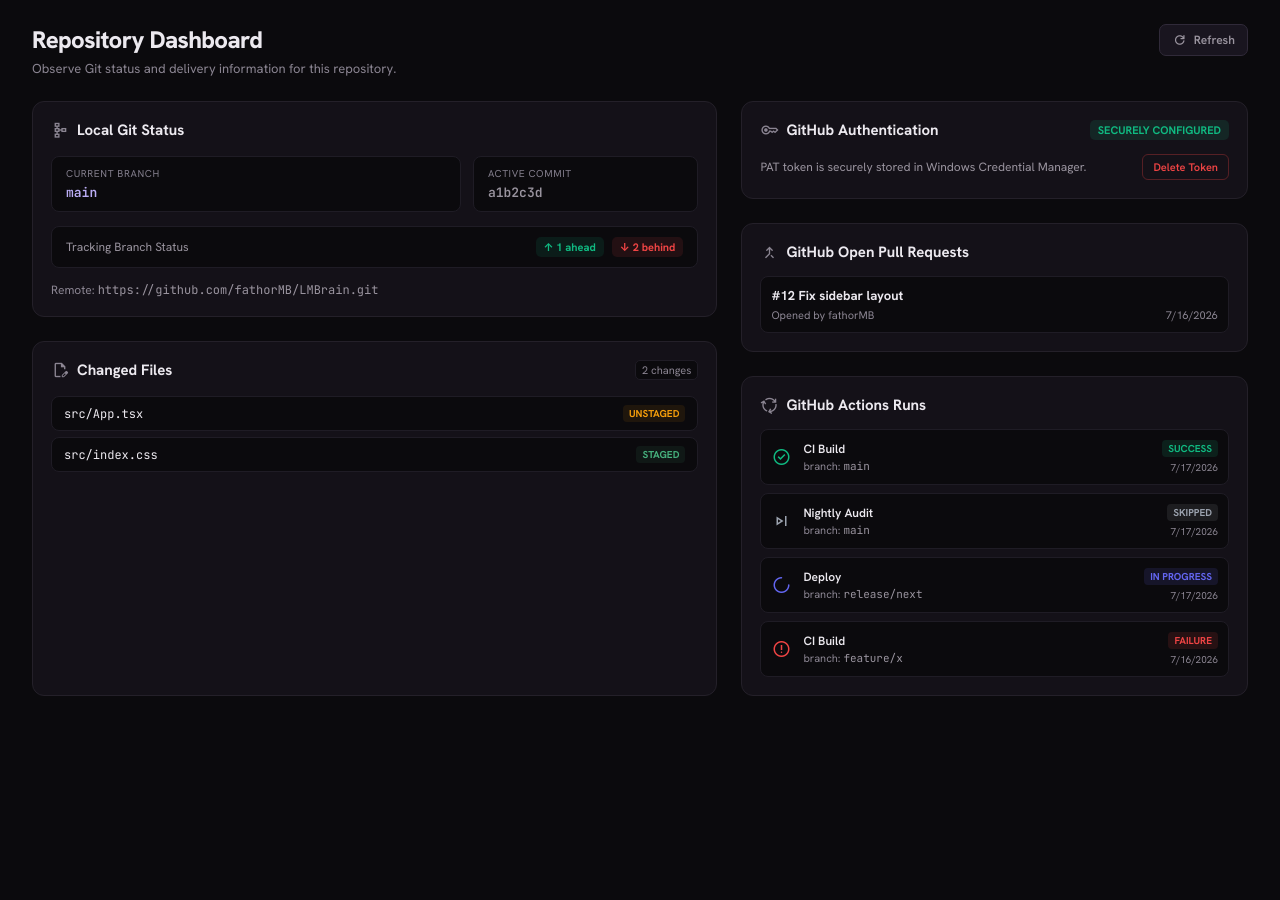
Test: RepositoryView › opens the selected file in the diff viewer
The width and height of the screenshot is (1280, 900).
Step 1. Click the button with aria-label "View diff for src/App.tsx, status unstaged, unstaged" → (104, 414), box top-left (51, 396), bottom-right (698, 431)
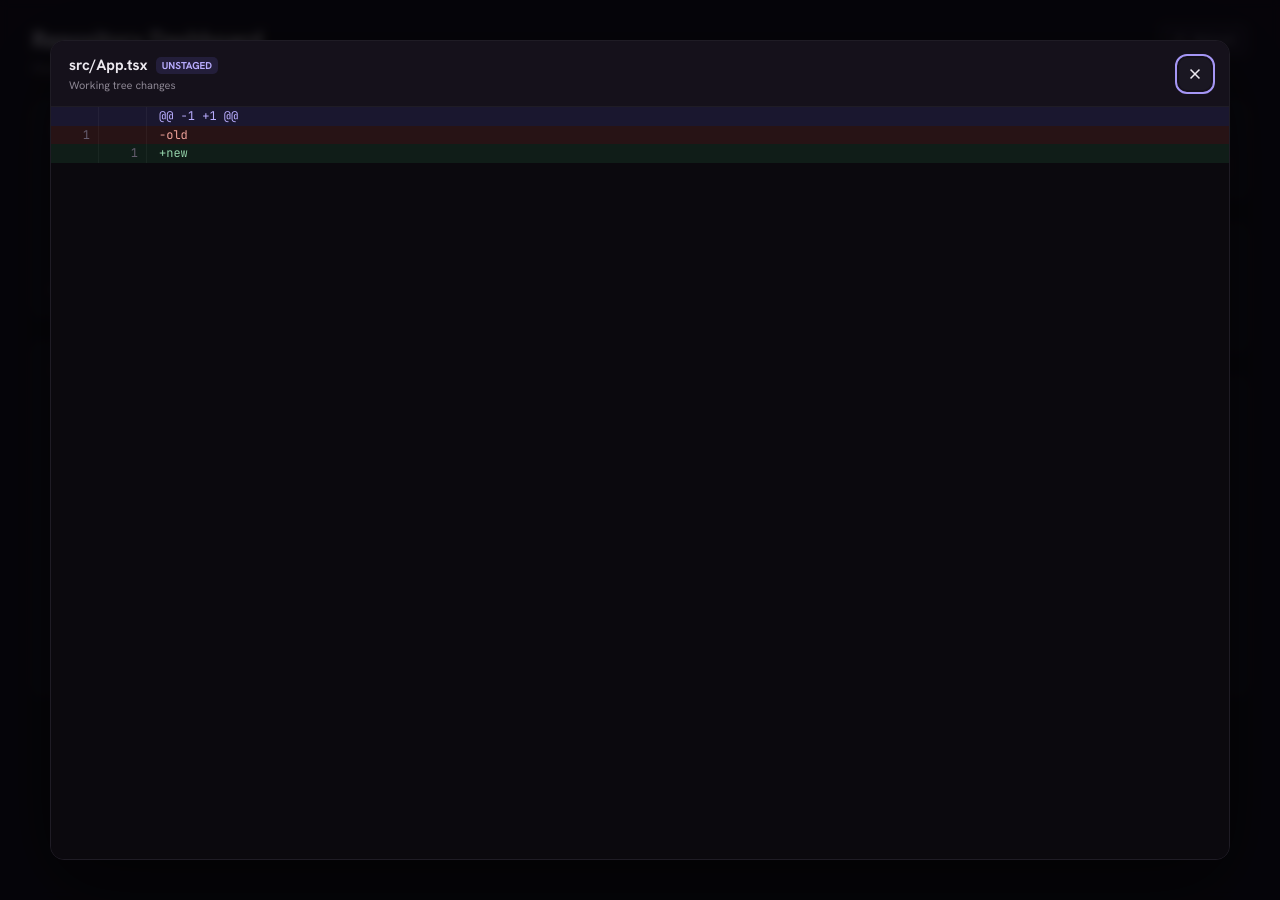
Expected: the dialog "src/App.tsx" is shown
